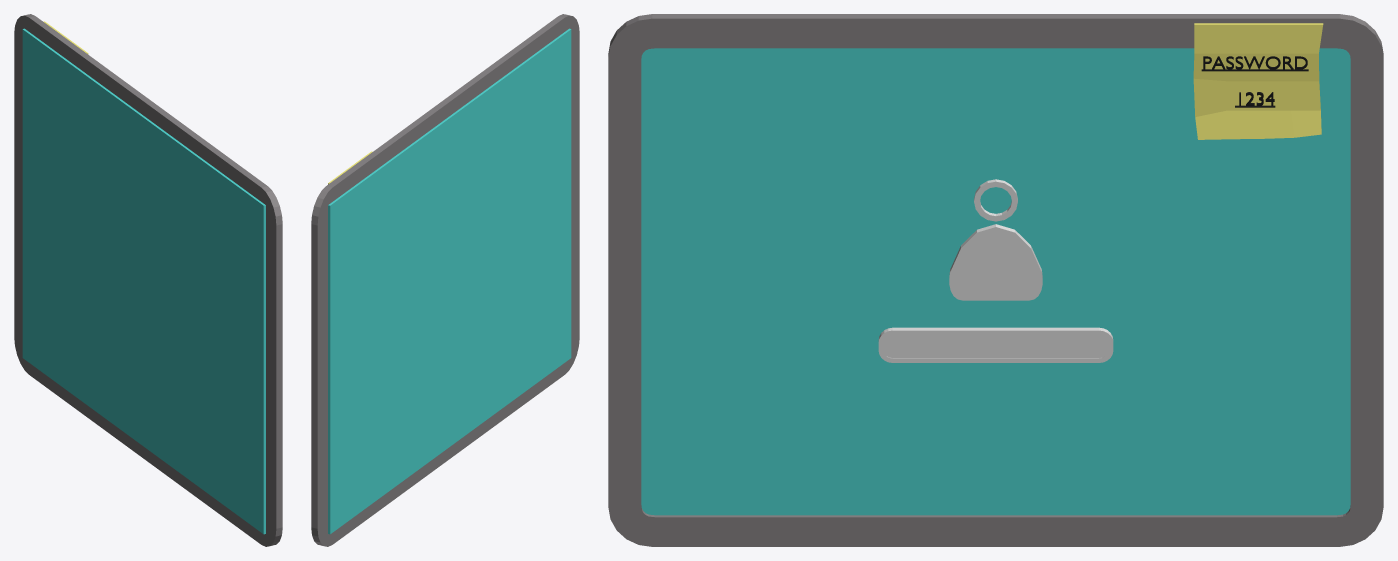
File: LoginScreen.fbx
The picture shows the model from 3 angles, left to right: view 1: azimuth 30°, elevation 25°; view 2: azimuth 150°, elevation 25°; view 3: azimuth 270°, elevation 25°; orthographic projection. The views are drawn at different scales.
Visible parts, largest first — view 1: LoginScreen_2, Monitor.001; view 2: LoginScreen_2, Monitor.001; view 3: LoginScreen_2, Monitor.001, Memo.001, Cube.002, Cylinder.003, Password.001.
Part boxes in pixels (x1,y1,x2,y2): LoginScreen_2: (22,28,265,534); Monitor.001: (14,14,282,546); LoginScreen_2: (328,28,571,534); Monitor.001: (311,14,579,546); LoginScreen_2: (641,48,1350,515); Monitor.001: (608,14,1383,546); Memo.001: (1193,23,1323,139); Cube.002: (878,327,1113,362); Cylinder.003: (949,224,1042,300); Password.001: (1201,56,1308,107).
Size of the model in its own units: 84.69 by 2173 by 2891.
